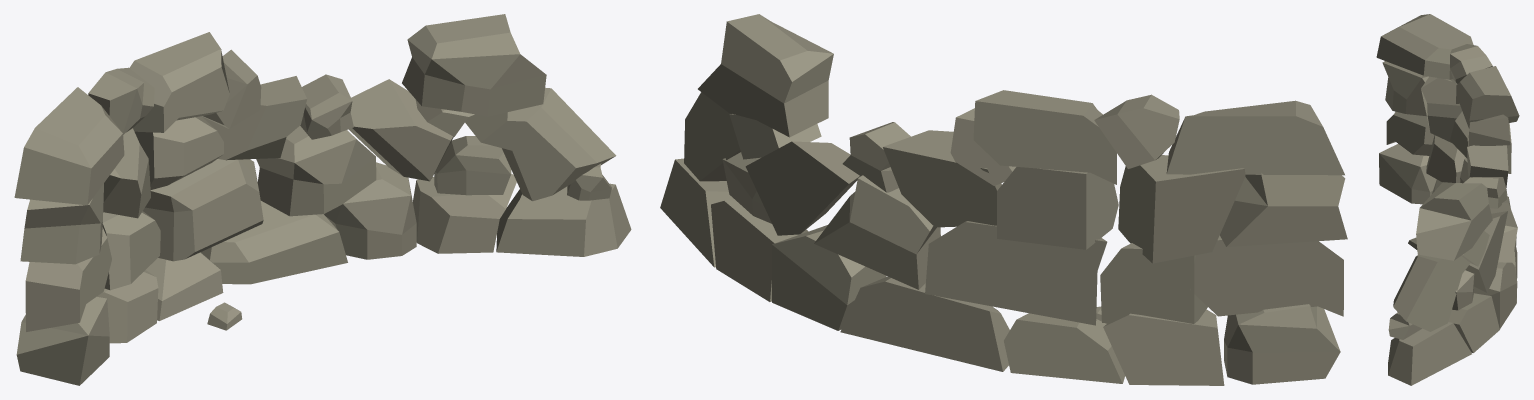
The model's file is wall03.fbx.
3 renders of one model, left to right at view 1: azimuth 30°, elevation 25°; view 2: azimuth 150°, elevation 25°; view 3: azimuth 270°, elevation 25°, orthographic. The views are drawn at different scales.
Parts seen in each view (by area): view 1: wall03, wall03_small; view 2: wall03; view 3: wall03.
Part boxes in pixels (x1=…): wall03: x1=14, y1=14, x2=631, y2=385; wall03_small: x1=207, y1=302, x2=242, y2=330; wall03: x1=660, y1=14, x2=1347, y2=385; wall03: x1=1376, y1=14, x2=1519, y2=385.
Size of the model in its own units: 9.63 by 3.6 by 2.7.
